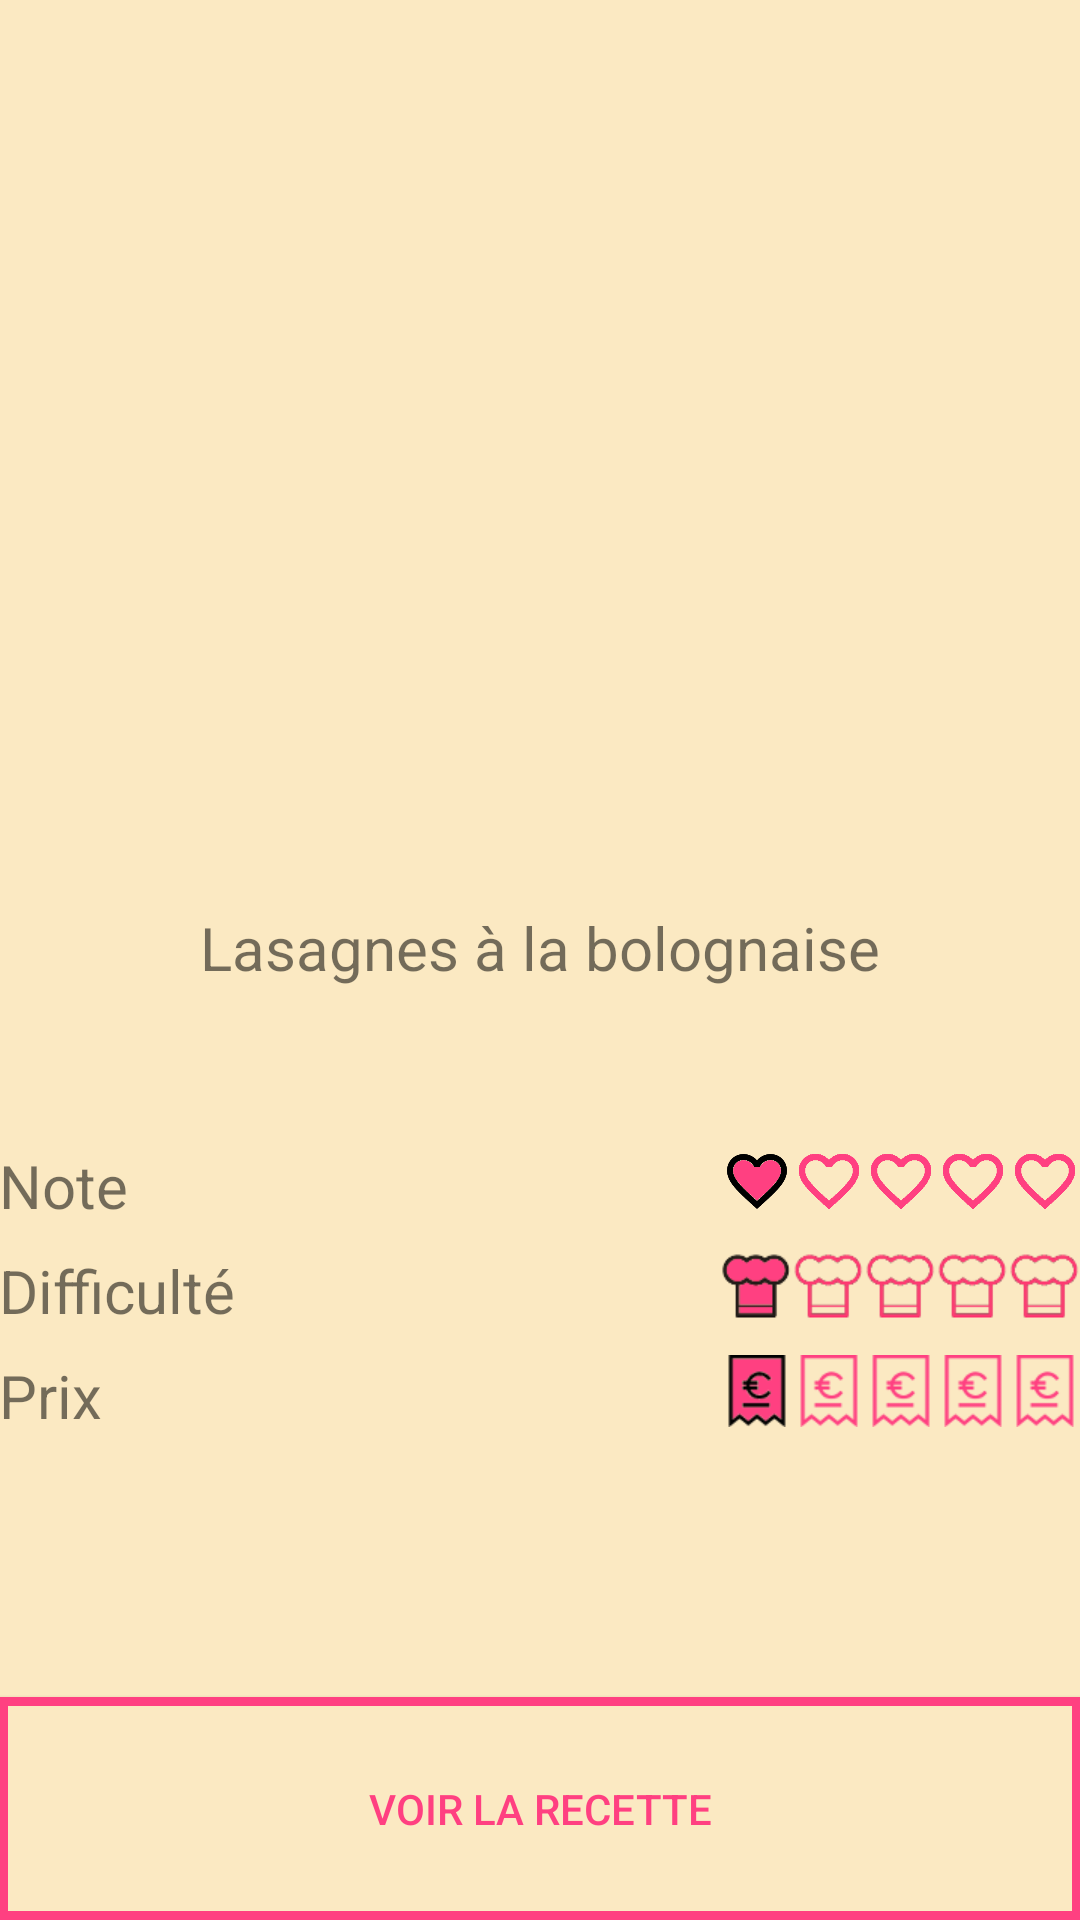

Screen size 1080 × 1920. Icon name, then its center in pixels as point (x, y):
chefhat: point (828, 1286), point (900, 1286), point (972, 1286), point (1044, 1286)
chefhat full: point (756, 1286)
price: point (829, 1391), point (901, 1391), point (973, 1391), point (1045, 1391)
price full: point (757, 1391)
